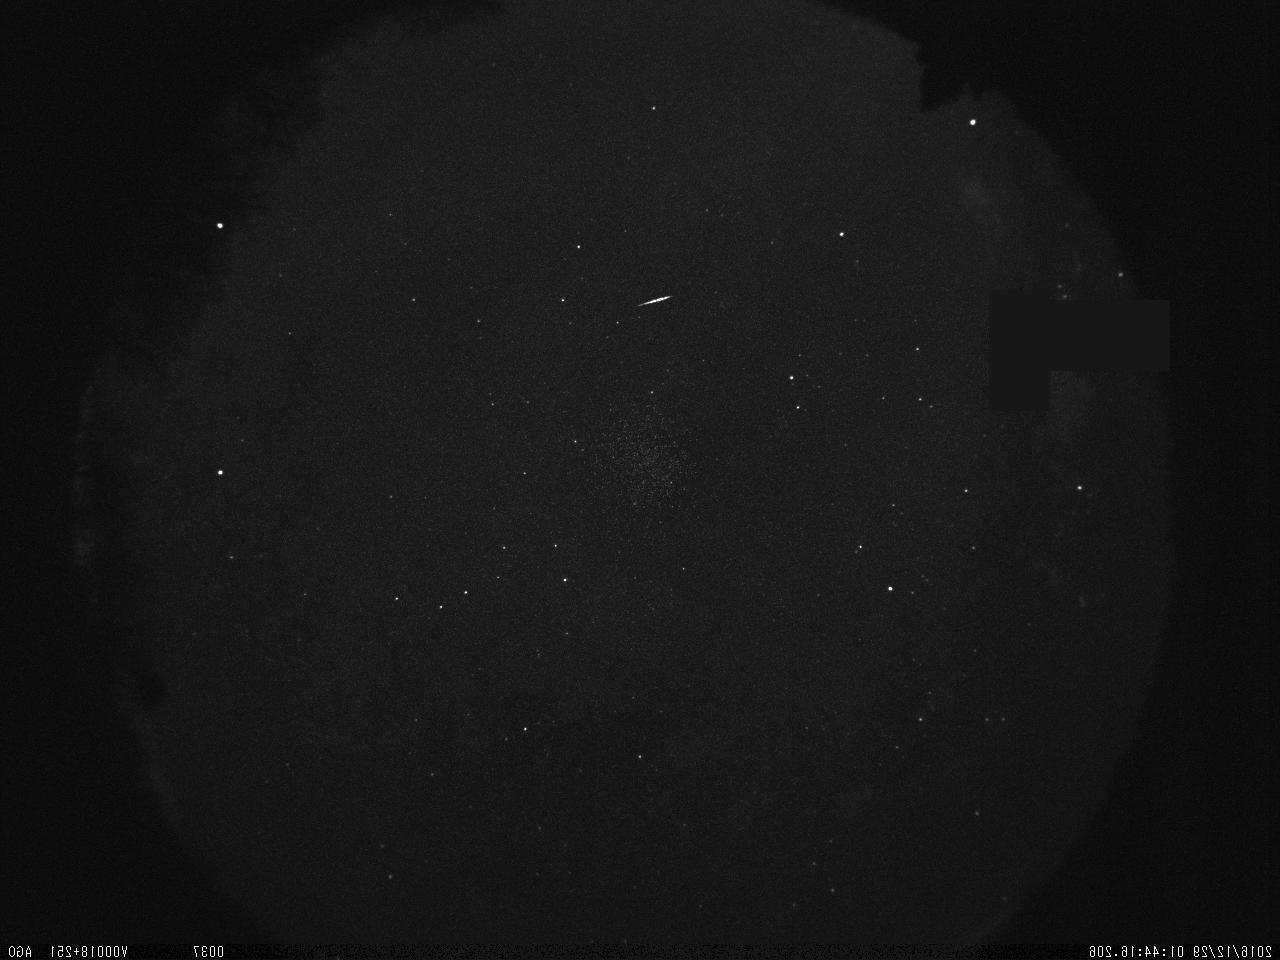meteor: (632, 281, 690, 316)
